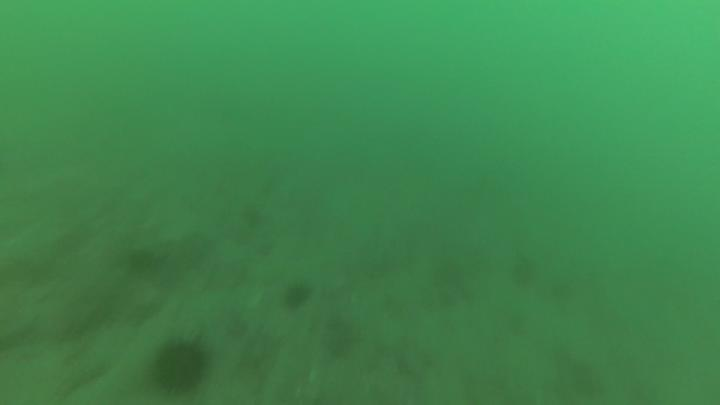echinus: (151, 336, 213, 400), (282, 281, 318, 312), (124, 248, 157, 278), (512, 255, 540, 290), (241, 203, 269, 230)
